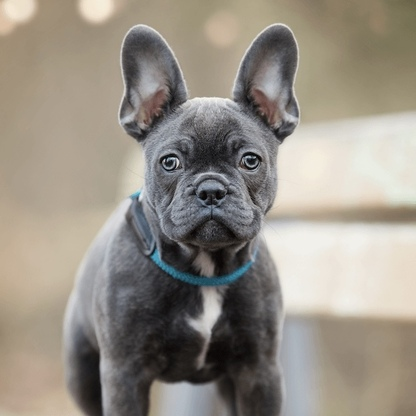bulldog: (61, 23, 308, 416)
